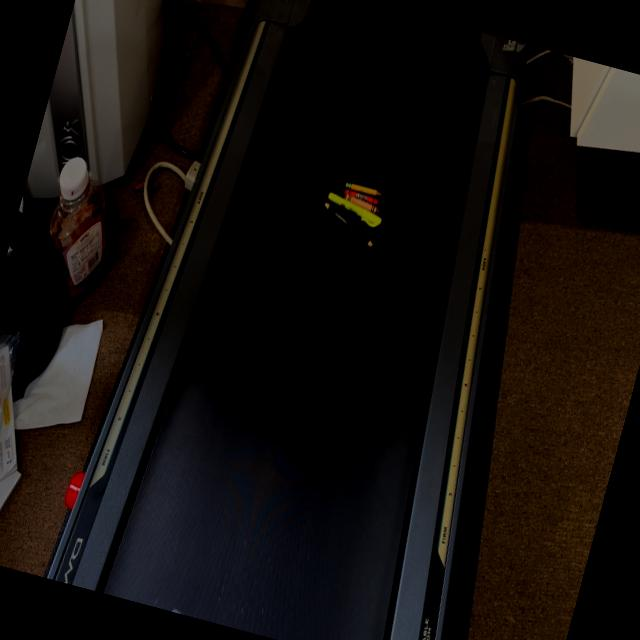Trash: (310, 169, 397, 256)
